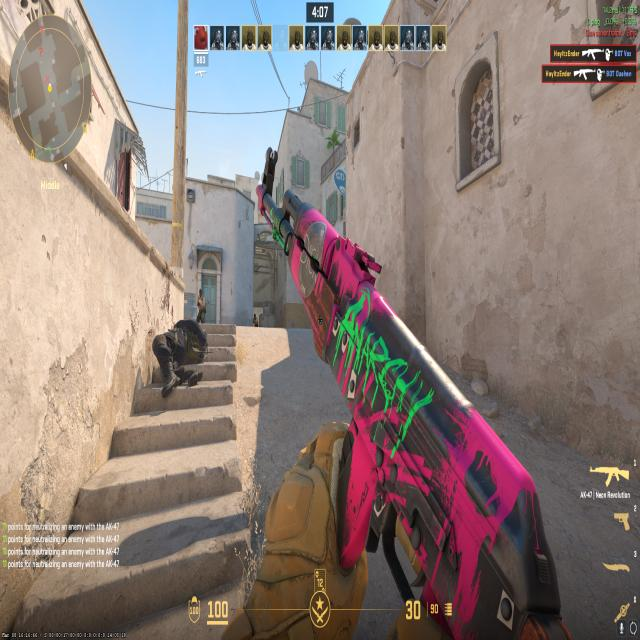t: (193, 286, 206, 321), (252, 313, 258, 328)
